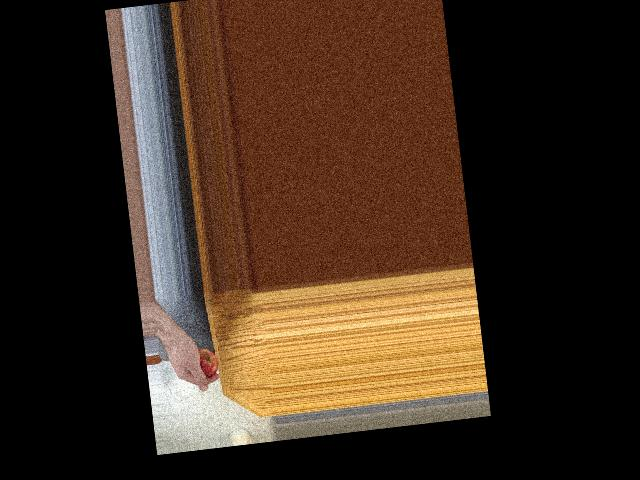apple: (188, 343, 220, 379)
